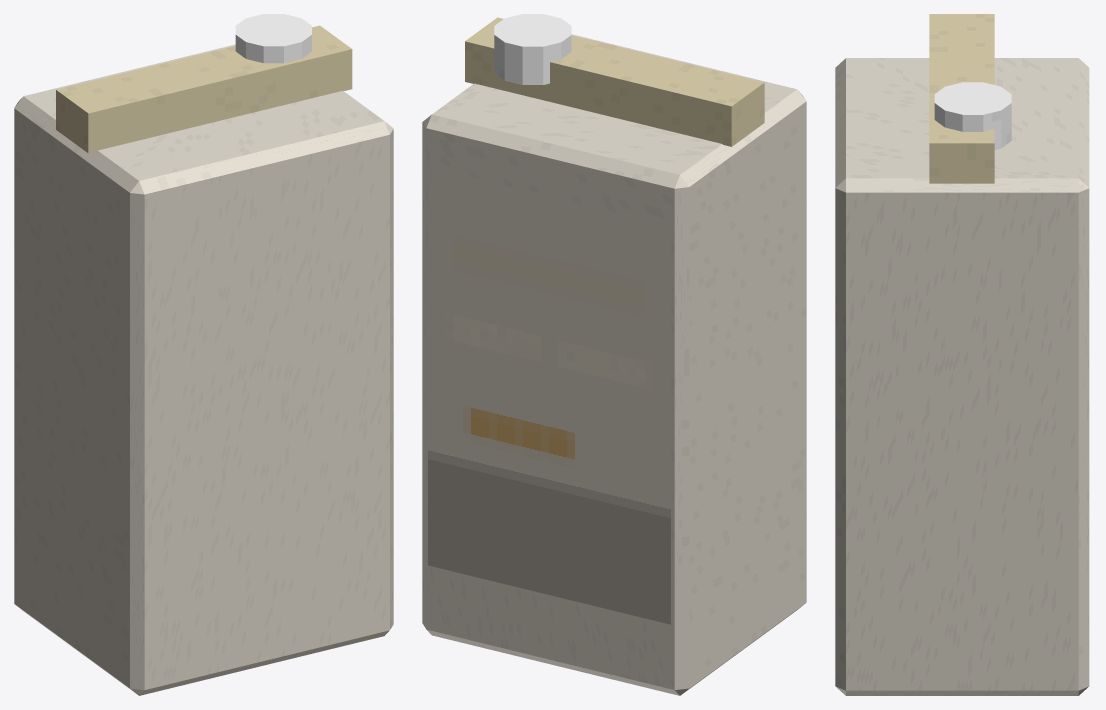
File: milk_cream.glb
3 renders of one model, left to right at view 1: azimuth 30°, elevation 25°; view 2: azimuth 150°, elevation 25°; view 3: azimuth 270°, elevation 25°, orthographic.
Parts seen in each view (by area): view 1: block_printed carton, block_folded carton seam, block_screw cap; view 2: block_printed carton, block_product illustration and wordmark, block_folded carton seam, block_screw cap; view 3: block_printed carton, block_folded carton seam, block_screw cap.
Boxes of the visible parts, x1,y1,x2,y2 form: block_printed carton: [14, 44, 393, 695]; block_folded carton seam: [56, 25, 352, 153]; block_screw cap: [235, 14, 311, 63]; block_printed carton: [422, 34, 806, 695]; block_product illustration and wordmark: [428, 167, 670, 624]; block_folded carton seam: [465, 17, 764, 146]; block_screw cap: [494, 14, 571, 84]; block_printed carton: [835, 58, 1089, 695]; block_folded carton seam: [929, 14, 994, 183]; block_screw cap: [934, 82, 1011, 149].
Bounding box in the file's own units: 0.0582 × 0.1203 × 0.0487.
Materials: 1 (1 with a texture image).
